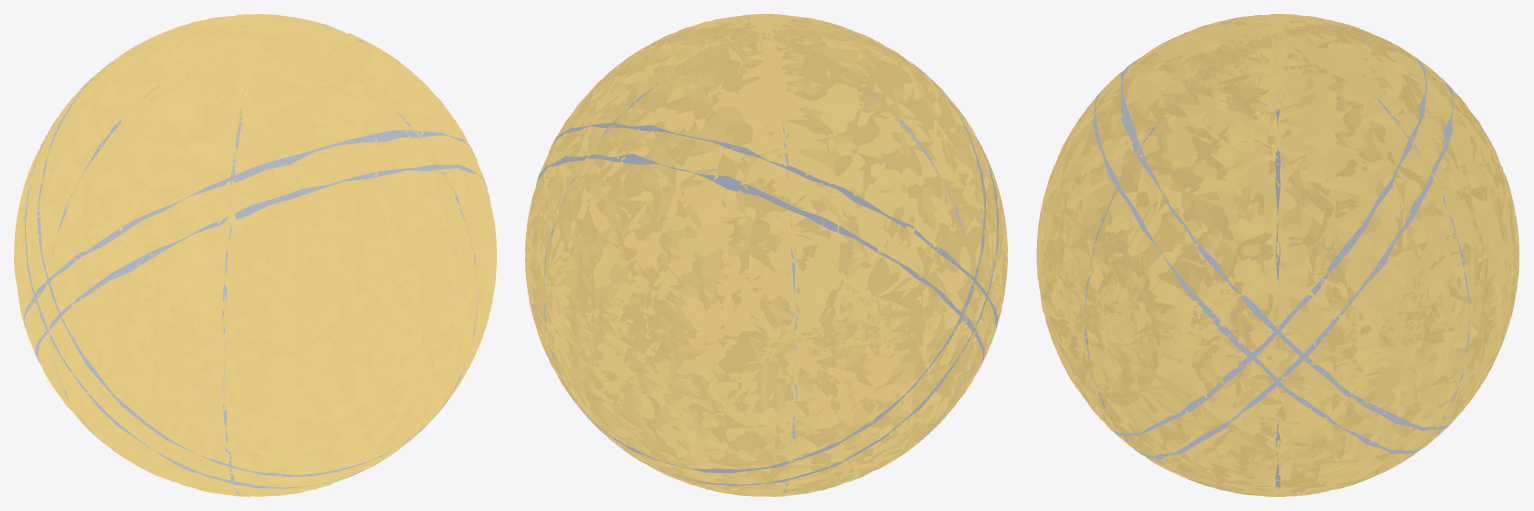
3 renders of one model, left to right at view 1: azimuth 30°, elevation 25°; view 2: azimuth 150°, elevation 25°; view 3: azimuth 270°, elevation 25°, orthographic.
Visible parts, largest first — view 1: anodes, structure; view 2: anodes, structure; view 3: anodes, structure.
Part boxes in pixels (x1,y1,x2,y2): anodes: (14,14,496,496); structure: (23,34,487,495); anodes: (525,14,1007,496); structure: (536,24,998,494); anodes: (1036,14,1519,496); structure: (1085,28,1470,495).
Size of the model in its own units: 2 by 2 by 2.
